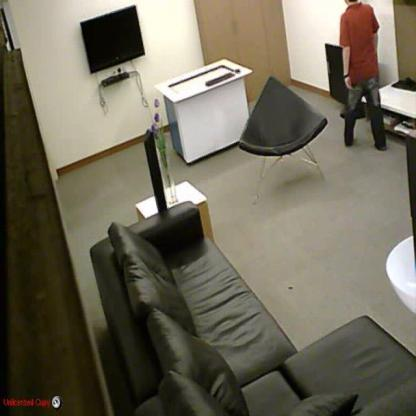Person: (339, 0, 386, 150)
